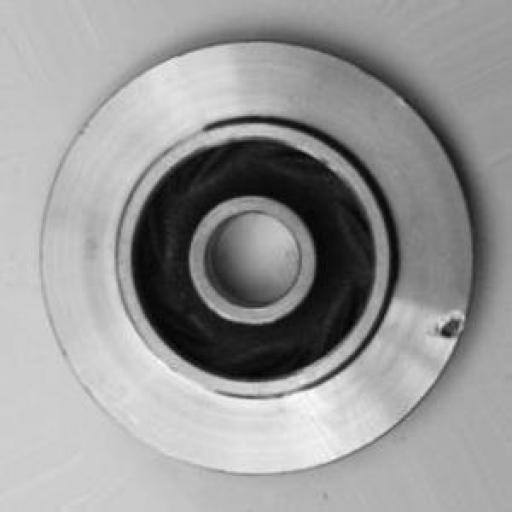defect: (406, 297, 484, 377)
